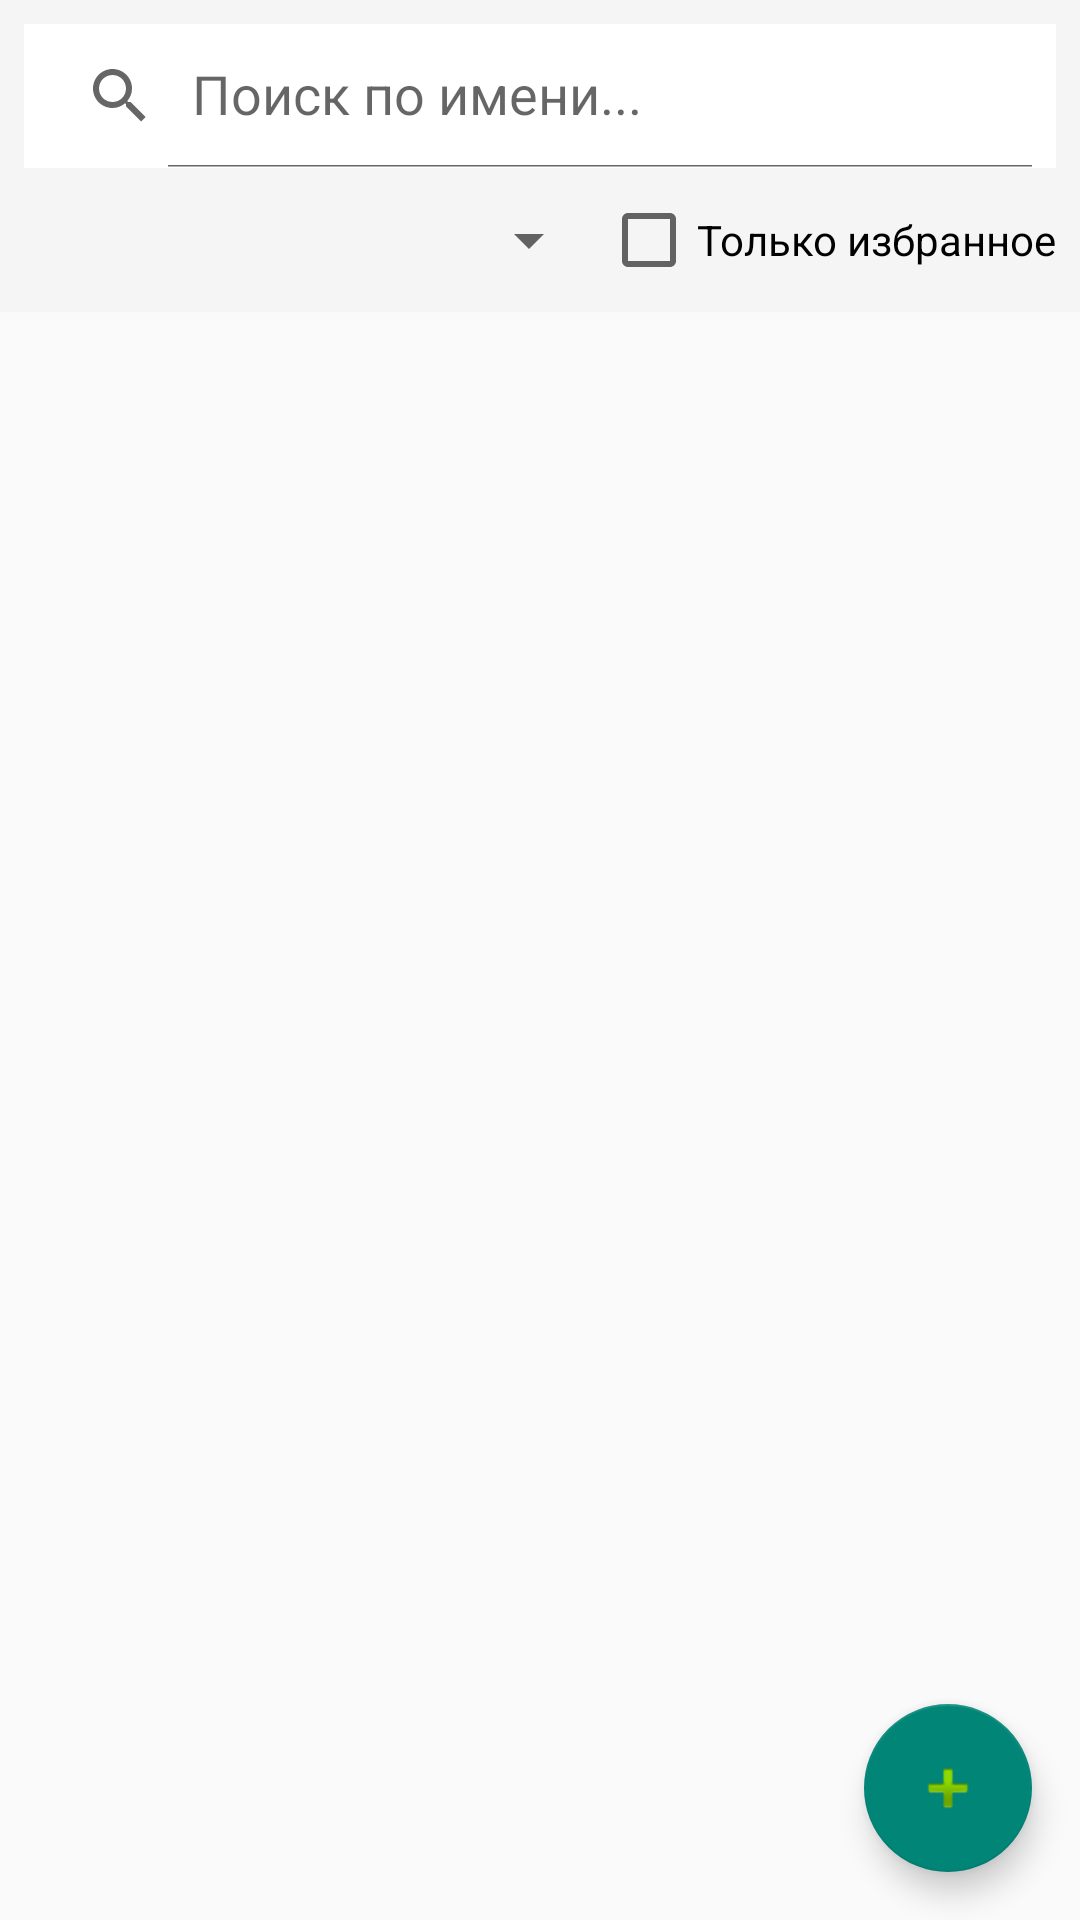

Point at icon controls on the screen. Image size 1080px×1920px, points as (x=x, y=y).
Добавить тег: (x=948, y=1788)
